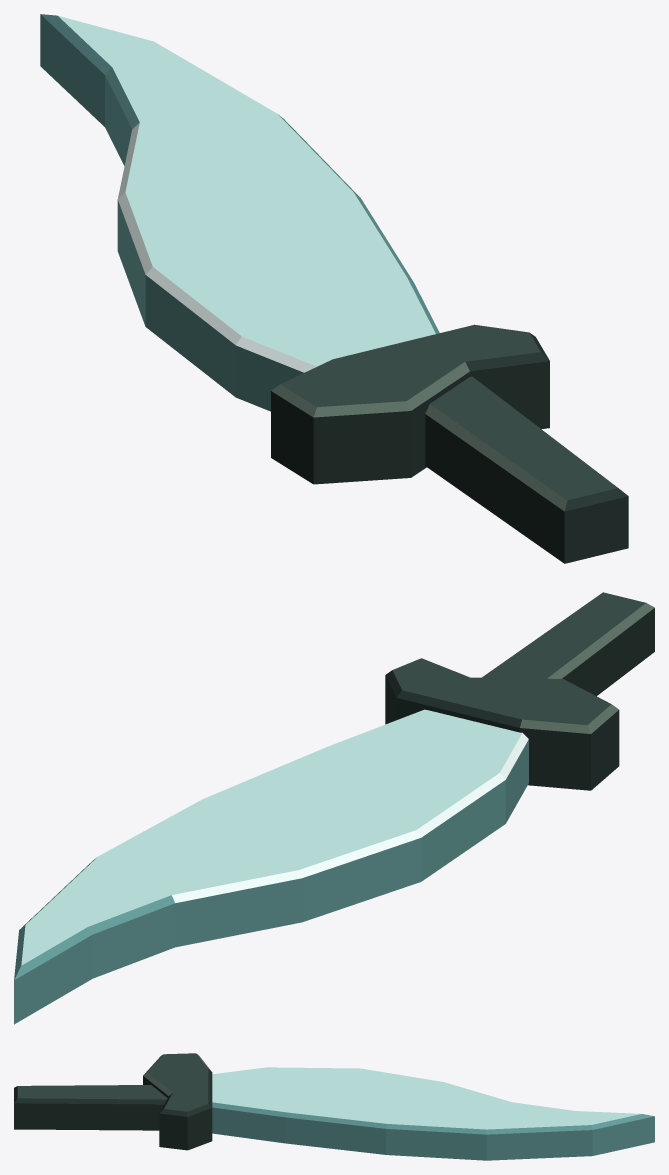
The model's file is dragon_sword.fbx.
3 renders of one model, top to bottom at view 1: azimuth 30°, elevation 25°; view 2: azimuth 150°, elevation 25°; view 3: azimuth 270°, elevation 25°, orthographic. The views are drawn at different scales.
Visible parts, largest first — view 1: dragon_sword; view 2: dragon_sword; view 3: dragon_sword.
Part boxes in pixels (bbox=[...]): dragon_sword: bbox=[40, 14, 628, 563]; dragon_sword: bbox=[14, 592, 654, 1024]; dragon_sword: bbox=[14, 1053, 654, 1160].
Size of the model in its own units: 0.64 by 0.15 by 2.36.
1 material, 1 textured.
